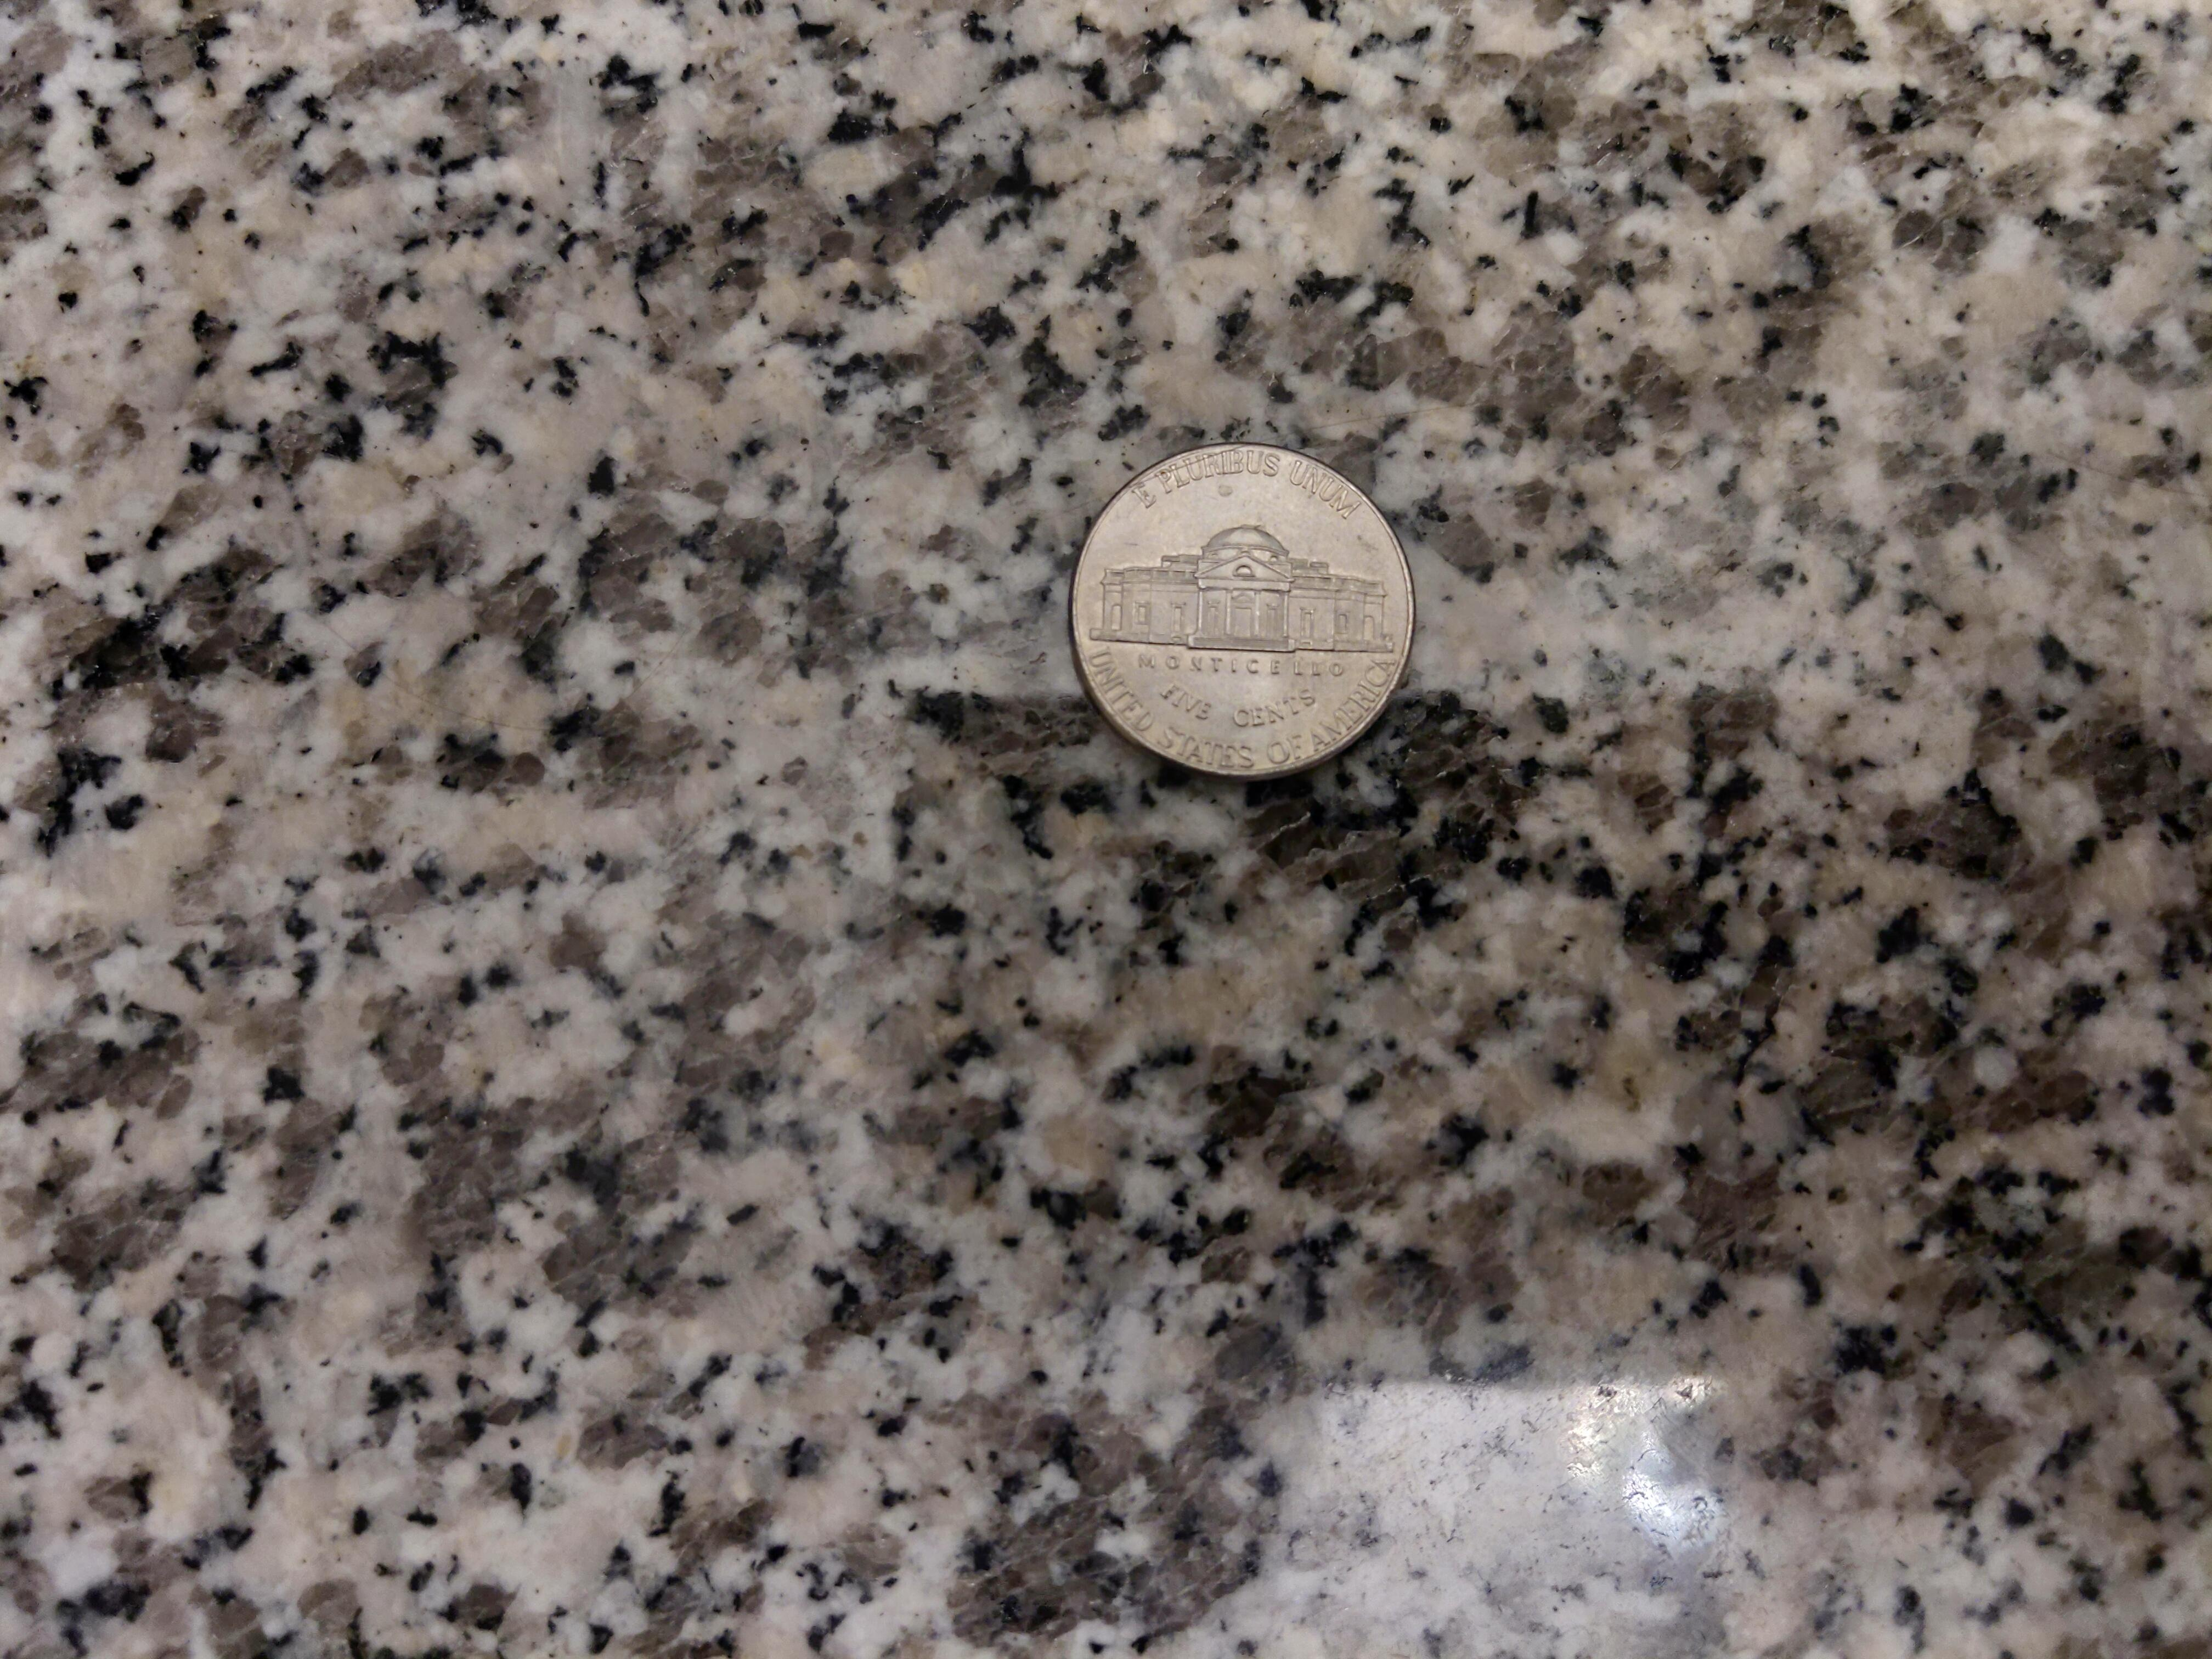Nickel: (1068, 437, 1420, 779)
